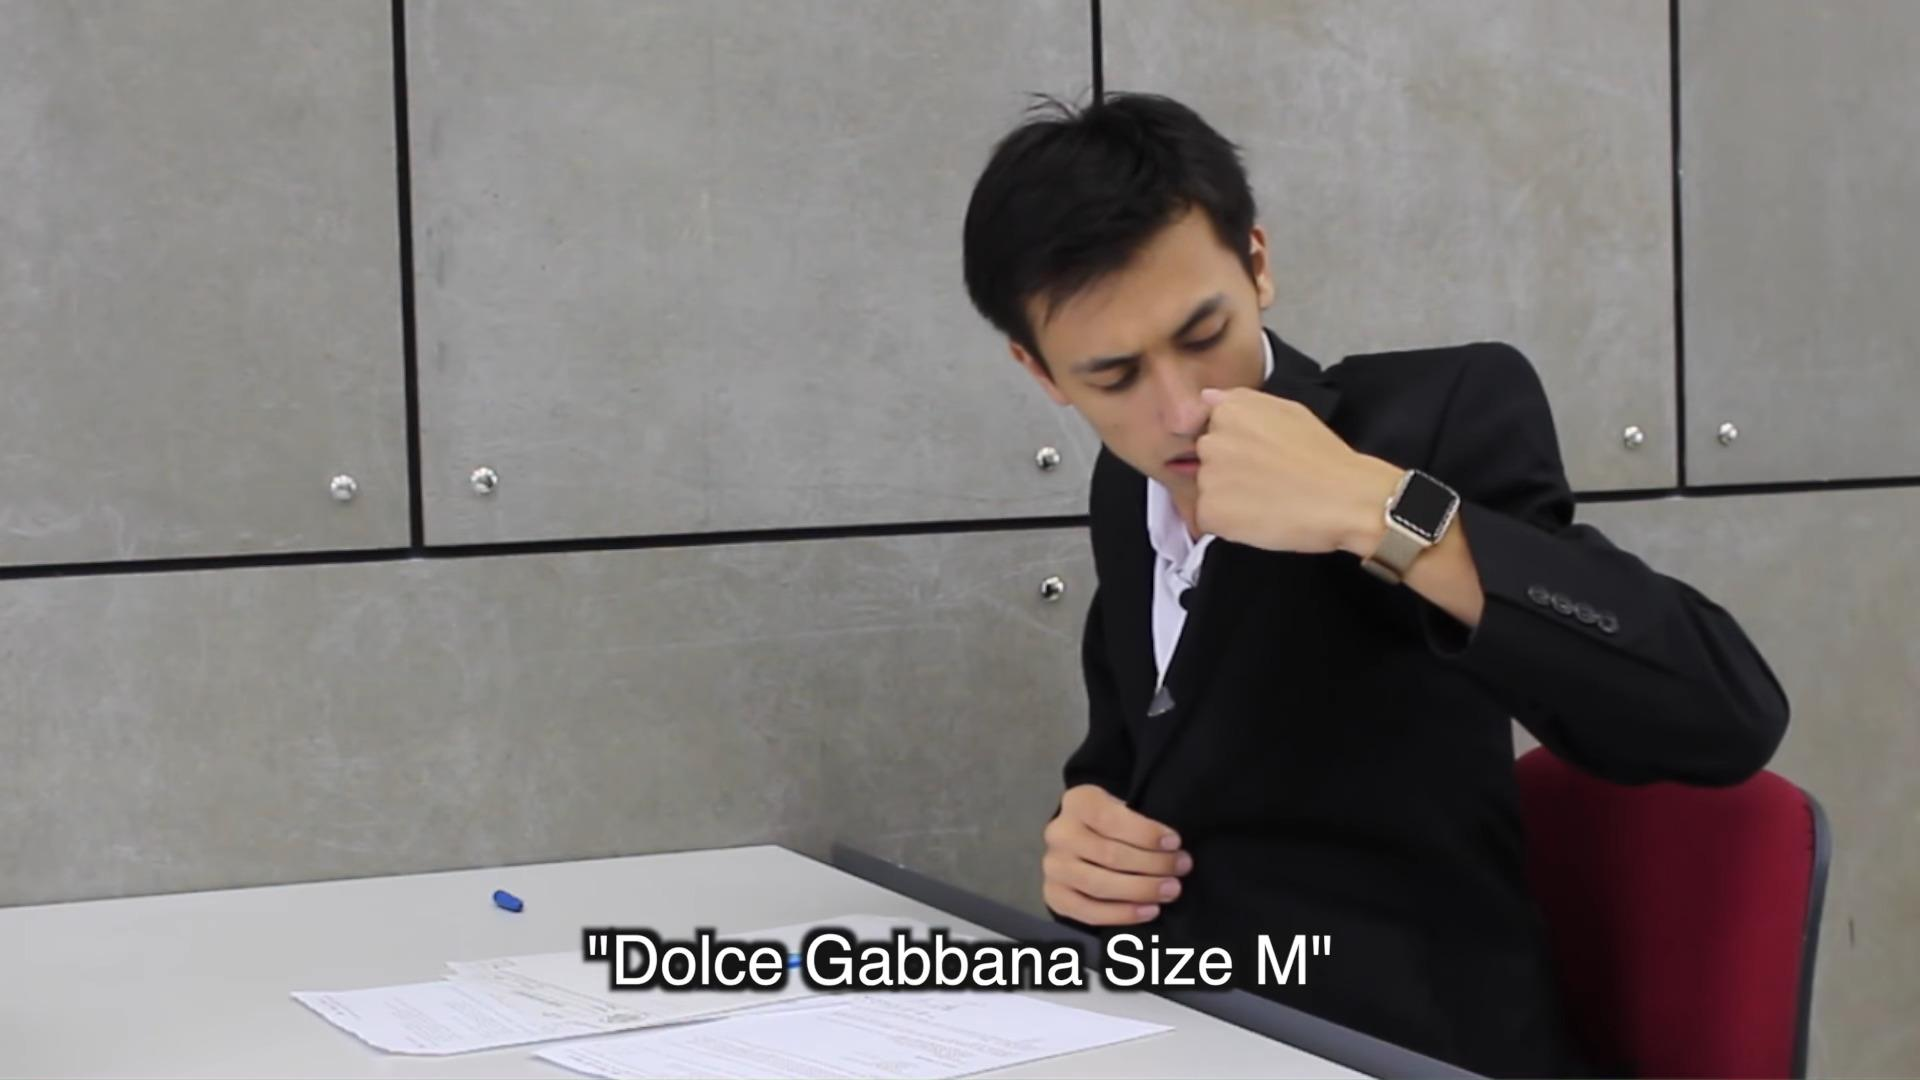cheating: (953, 61, 1805, 932)
